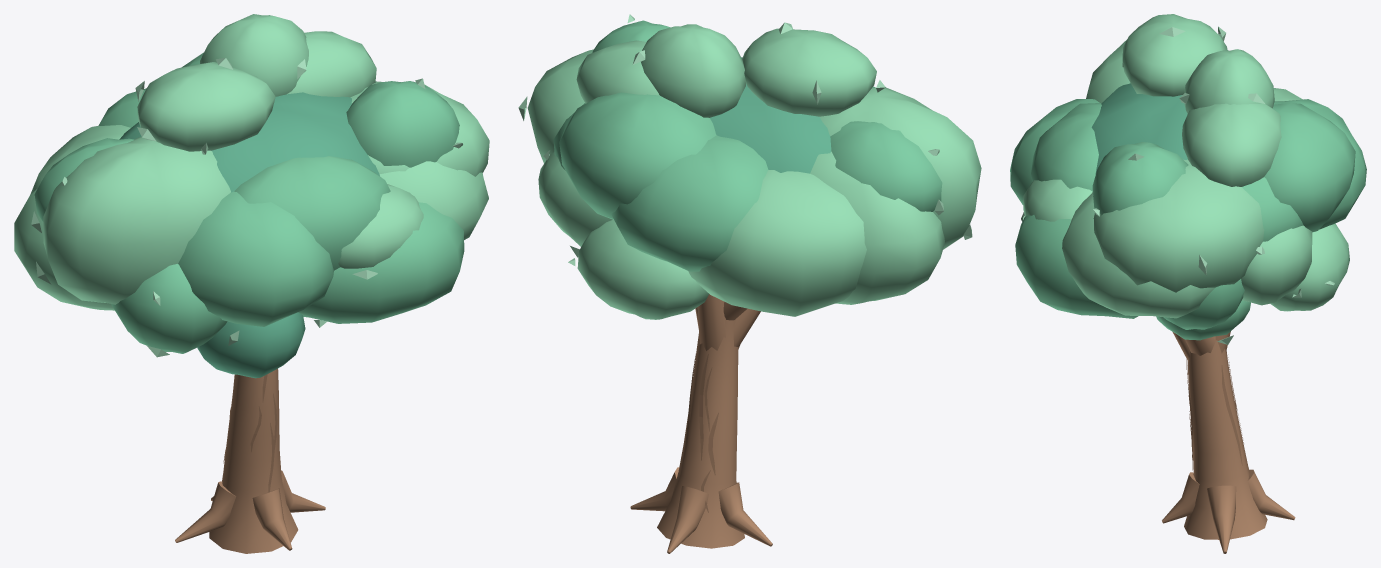
The model's file is tree_01.fbx.
3 views of the same model, side by side, from view 1: azimuth 30°, elevation 25°; view 2: azimuth 150°, elevation 25°; view 3: azimuth 270°, elevation 25° (orthographic). The views are drawn at different scales.
Visible parts, largest first — view 1: CG_Tree_01_4DDFC18E_Geometry; view 2: CG_Tree_01_4DDFC18E_Geometry; view 3: CG_Tree_01_4DDFC18E_Geometry.
Boxes of the visible parts, box(x1,y1,x2,y2) form: CG_Tree_01_4DDFC18E_Geometry: box(14, 14, 489, 553); CG_Tree_01_4DDFC18E_Geometry: box(518, 14, 981, 553); CG_Tree_01_4DDFC18E_Geometry: box(1010, 14, 1366, 553).
Bounding box in the file's own units: 475 × 527 × 357.
